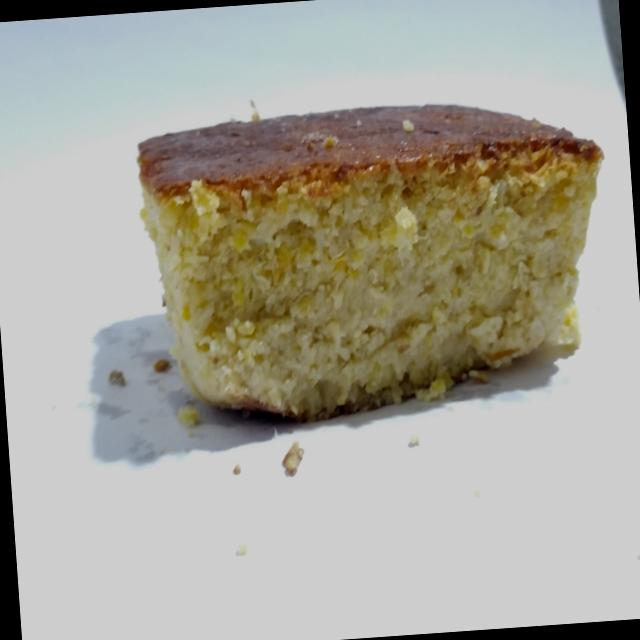Chipa_Guazu: (115, 71, 626, 452)
